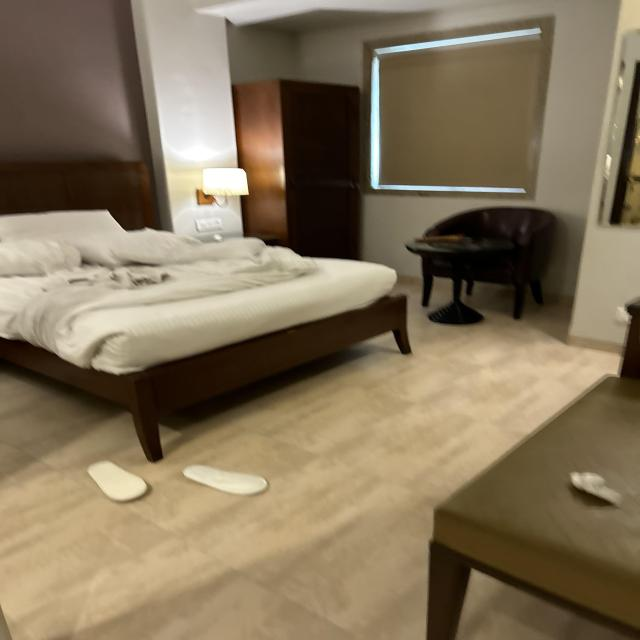mess: (13, 232, 372, 404), (0, 416, 338, 546)
